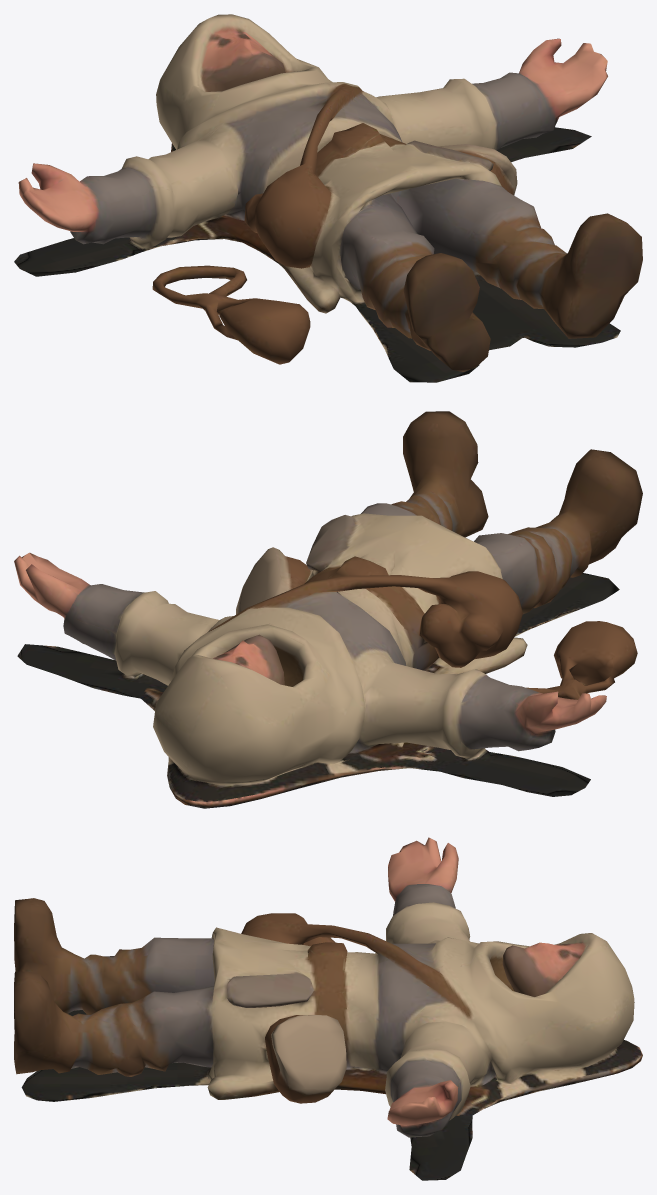
The model's file is hill_slingers_fallen.glb.
3 renders of one model, top to bottom at view 1: azimuth 30°, elevation 25°; view 2: azimuth 150°, elevation 25°; view 3: azimuth 270°, elevation 25°, orthographic. The views are drawn at different scales.
Visible parts, largest first — view 1: world; view 2: world; view 3: world.
Part boxes in pixels (bbox=[...]): world: bbox=[14, 14, 642, 382]; world: bbox=[14, 411, 642, 808]; world: bbox=[14, 837, 642, 1180].
Bounding box in the file's own units: 0.9952 × 0.2358 × 1.
Materials: 1 (1 with a texture image).
